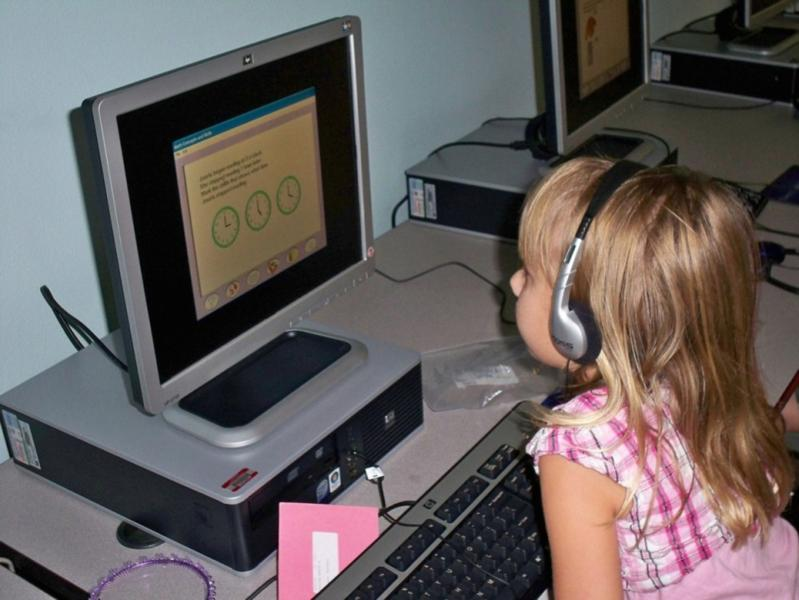person: (507, 157, 798, 600)
